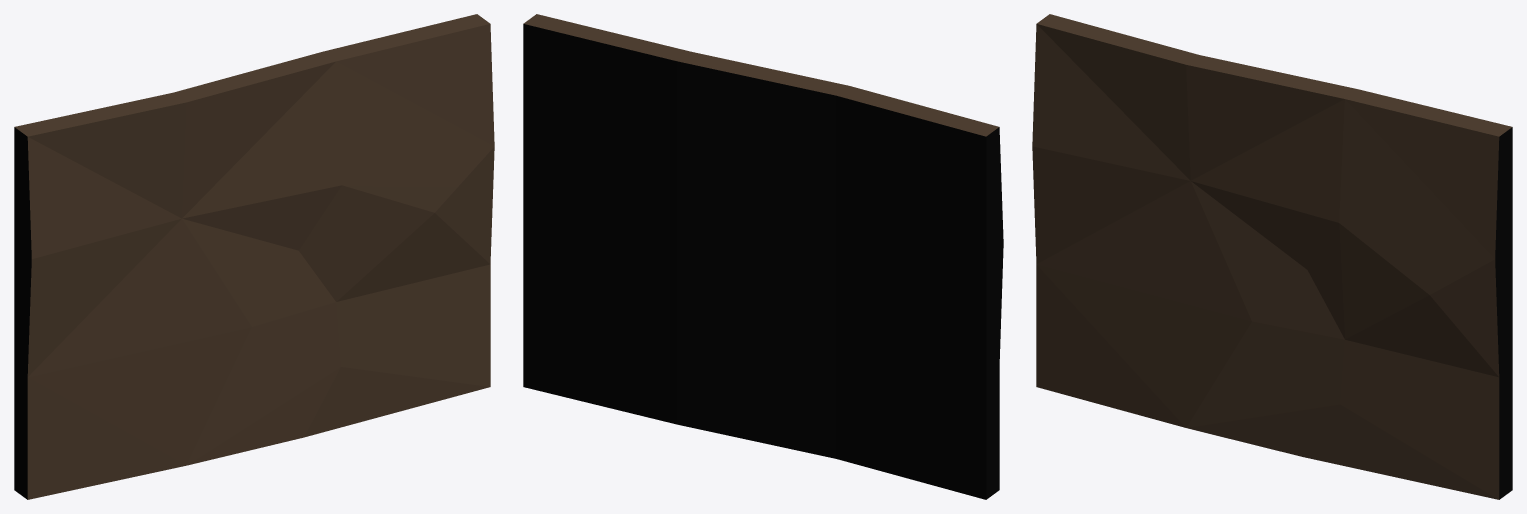
File: dungeon-wall-dirt.glb
The picture shows the model from 3 angles, left to right: view 1: azimuth 30°, elevation 25°; view 2: azimuth 150°, elevation 25°; view 3: azimuth 330°, elevation 25°; orthographic projection.
Visible parts, largest first — view 1: dungeon-wall-dirt; view 2: dungeon-wall-dirt; view 3: dungeon-wall-dirt.
Boxes of the visible parts, <box> form: dungeon-wall-dirt: <box>14,14,494,499</box>; dungeon-wall-dirt: <box>523,14,1003,499</box>; dungeon-wall-dirt: <box>1032,14,1512,499</box>.
Size of the model in its own units: 4 by 3 by 0.3032.
1 material, 1 textured.
